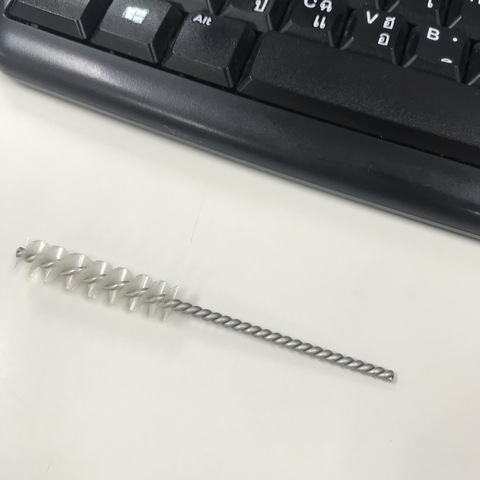Twist Brush-B: (4, 237, 403, 390)
